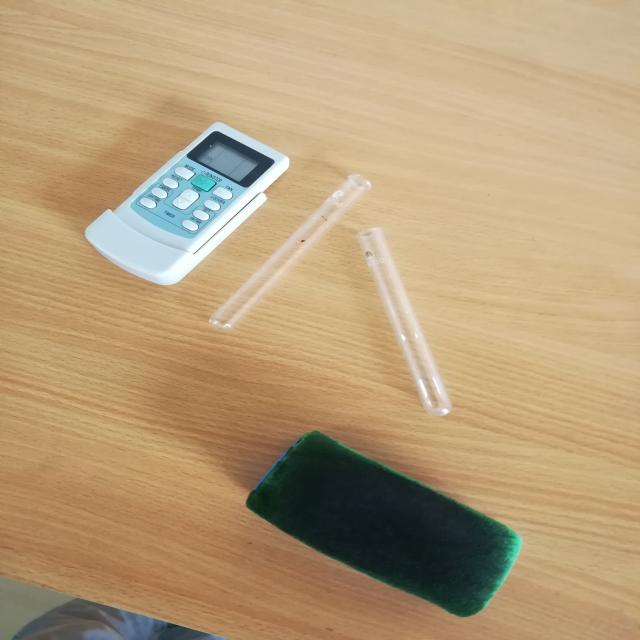Test_Tube: (179, 163, 385, 350), (342, 218, 483, 444)
